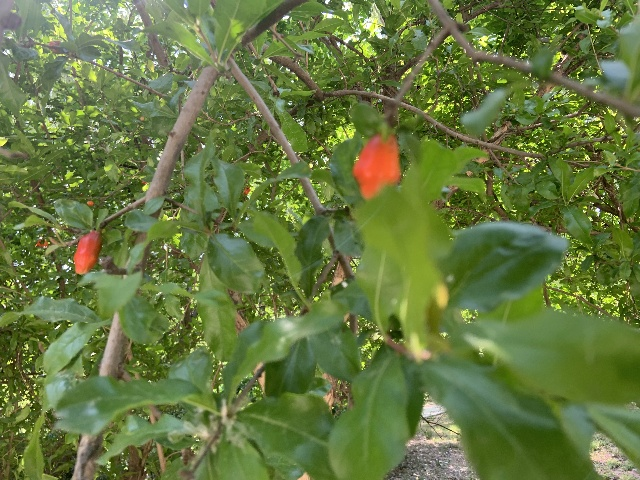bud: (353, 132, 400, 200), (73, 230, 102, 274)
flower: (35, 239, 48, 247), (243, 187, 250, 195)
